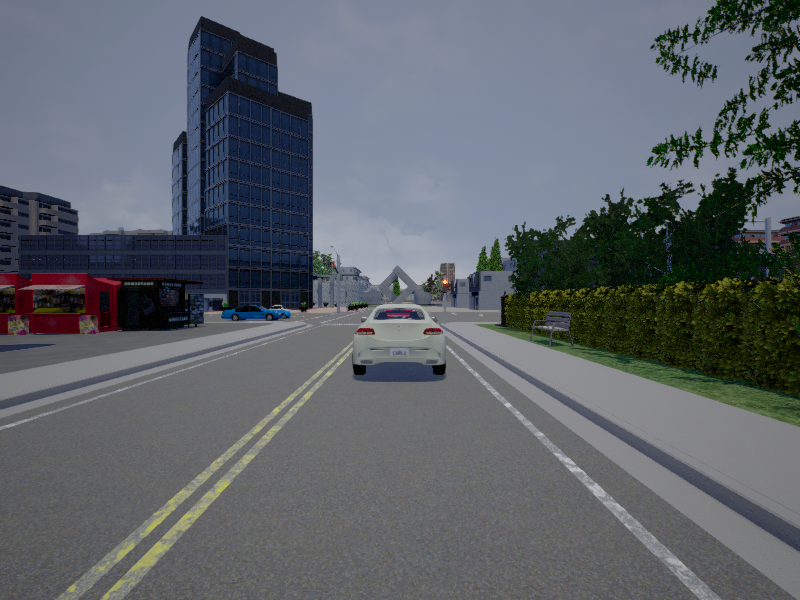Benign: (351, 305, 445, 378), (223, 302, 290, 322)
